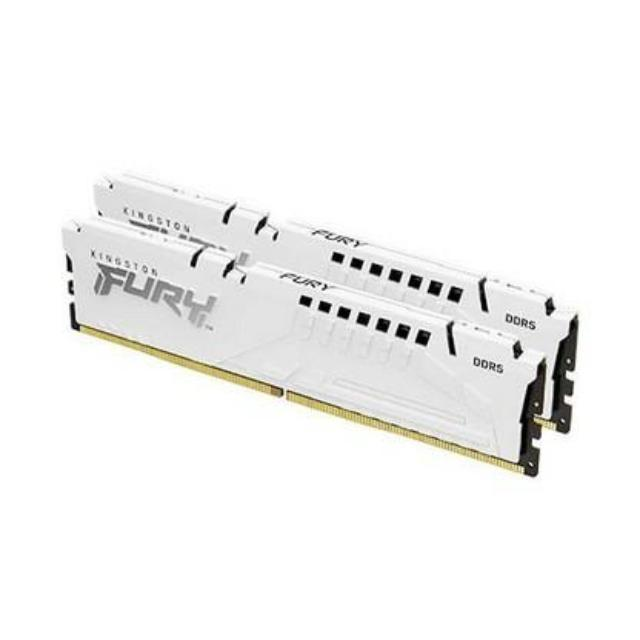RAM: (59, 165, 582, 477)
